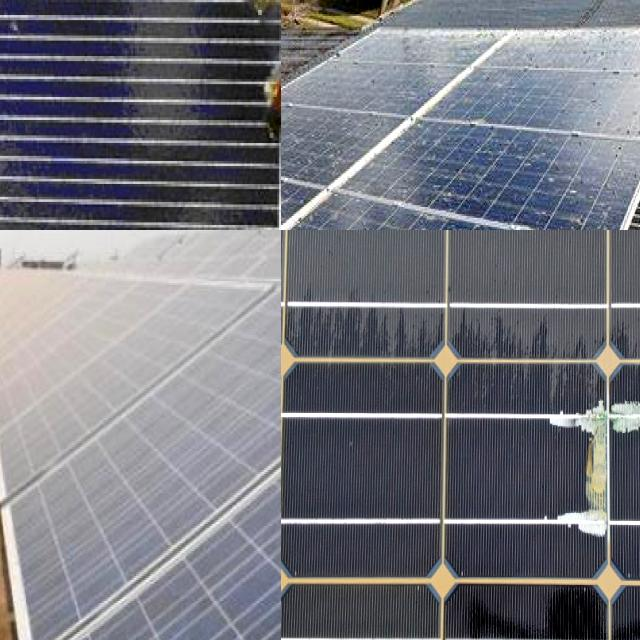bird: (366, 221, 423, 230)
dust: (62, 464, 281, 610), (0, 272, 186, 427), (215, 315, 281, 456)
shadow: (518, 382, 640, 565), (180, 0, 281, 207), (0, 0, 76, 82)
